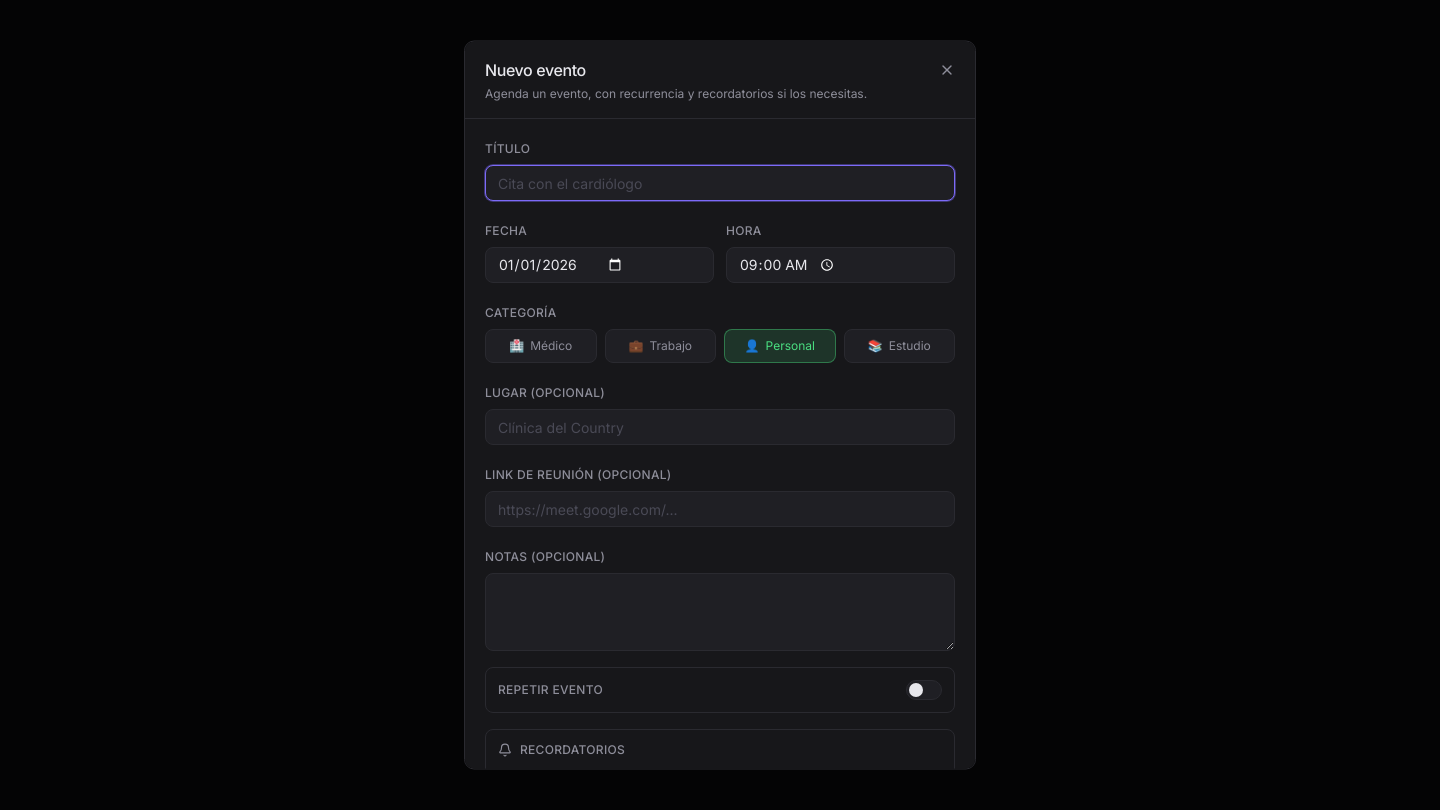
it: EventFormDialog › desactivar el switch vuelve a ocultar los campos de recurrencia
Click the switch named "repetir evento" at [924, 690], box left=906, top=680, right=942, bottom=700
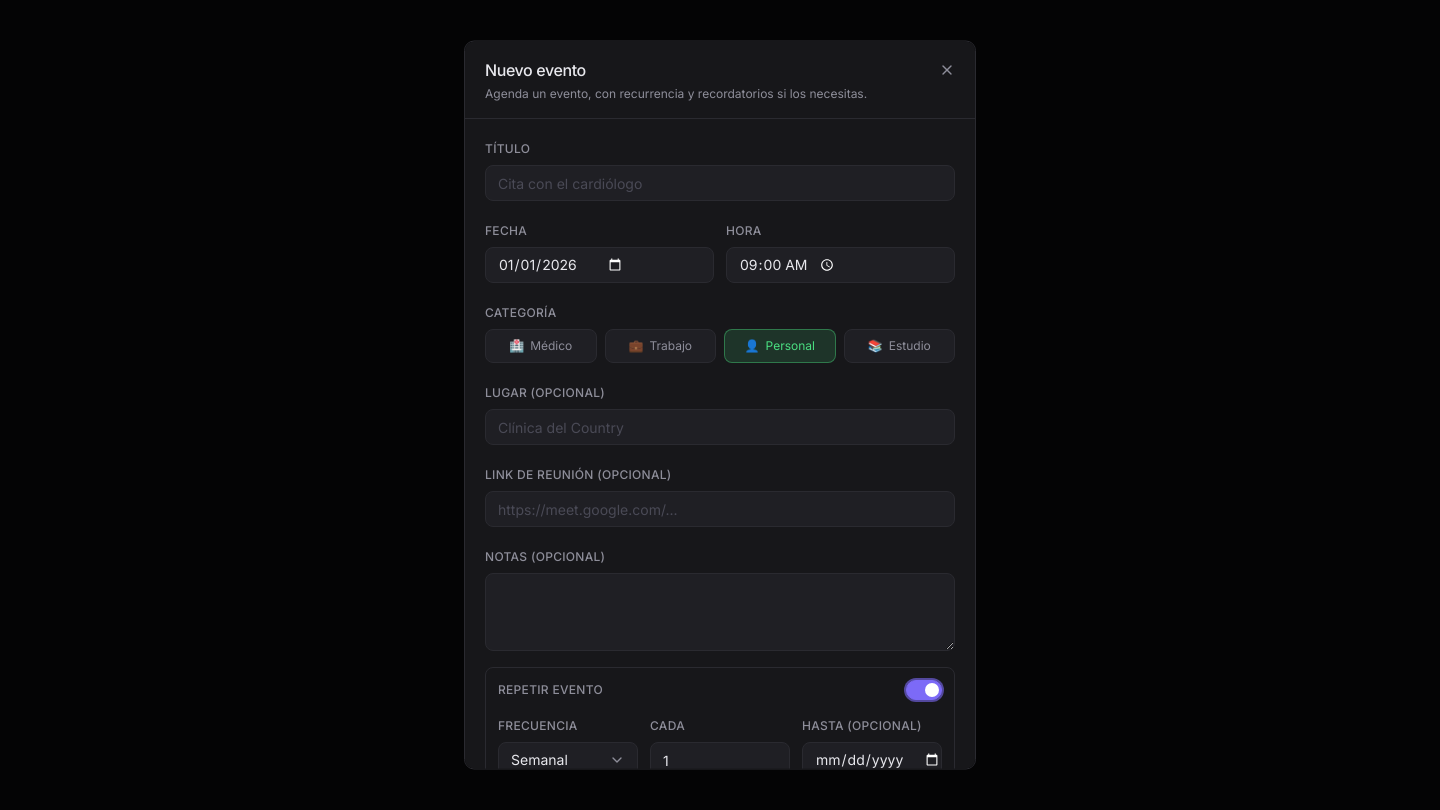
Now the dropdown named "Frecuencia" is shown, box left=498, top=742, right=638, bottom=770
Click the switch named "repetir evento" at [924, 690], box left=906, top=680, right=942, bottom=700
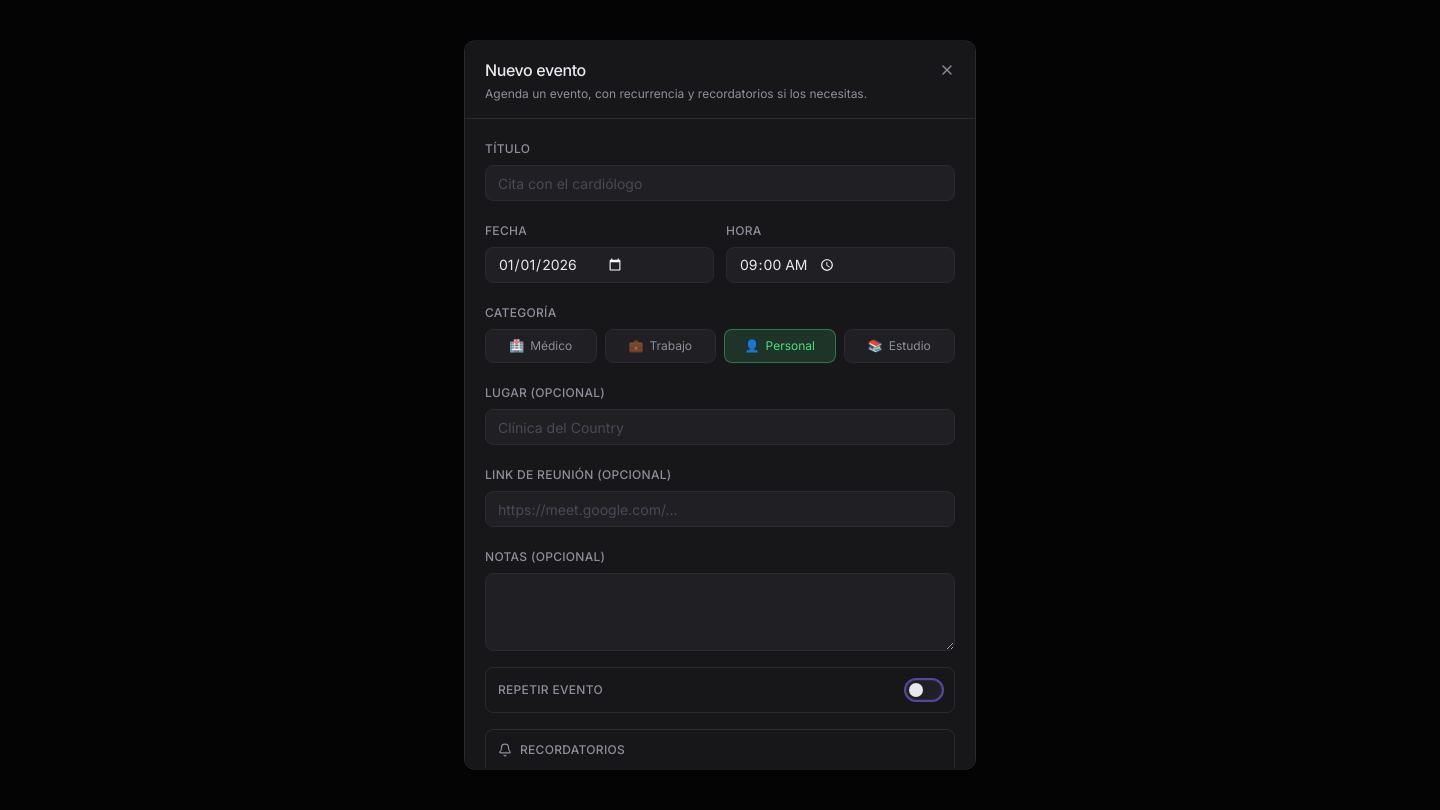
Now the label labelled "Frecuencia" is gone
